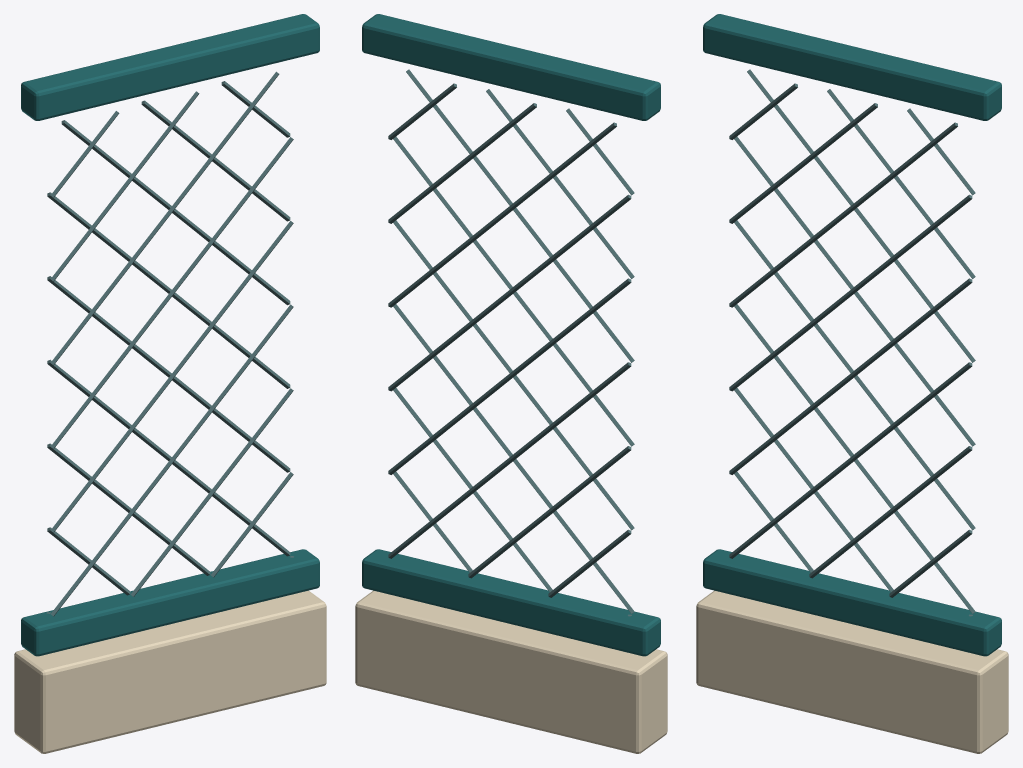
Rendered from fence-panel-1m.glb.
3 views of the same model, side by side, from view 1: azimuth 30°, elevation 25°; view 2: azimuth 150°, elevation 25°; view 3: azimuth 330°, elevation 25° (orthographic).
Visible parts, largest first — view 1: fence-panel-1m-frame-timber-cream, fence-panel-1m-frame-timber-teal, fence-panel-1m-fence-wire-timber-wire; view 2: fence-panel-1m-frame-timber-cream, fence-panel-1m-frame-timber-teal, fence-panel-1m-fence-wire-timber-wire; view 3: fence-panel-1m-frame-timber-cream, fence-panel-1m-frame-timber-teal, fence-panel-1m-fence-wire-timber-wire.
Part boxes in pixels (<box>): fence-panel-1m-frame-timber-cream: <box>14,590,326,753</box>; fence-panel-1m-frame-timber-teal: <box>21,14,319,656</box>; fence-panel-1m-fence-wire-timber-wire: <box>46,71,293,616</box>; fence-panel-1m-frame-timber-cream: <box>355,590,667,753</box>; fence-panel-1m-frame-timber-teal: <box>362,14,660,656</box>; fence-panel-1m-fence-wire-timber-wire: <box>388,69,634,616</box>; fence-panel-1m-frame-timber-cream: <box>696,590,1008,753</box>; fence-panel-1m-frame-timber-teal: <box>703,14,1001,656</box>; fence-panel-1m-fence-wire-timber-wire: <box>729,69,975,616</box>.
Size of the model in its own units: 1 by 2.2 by 0.18.
